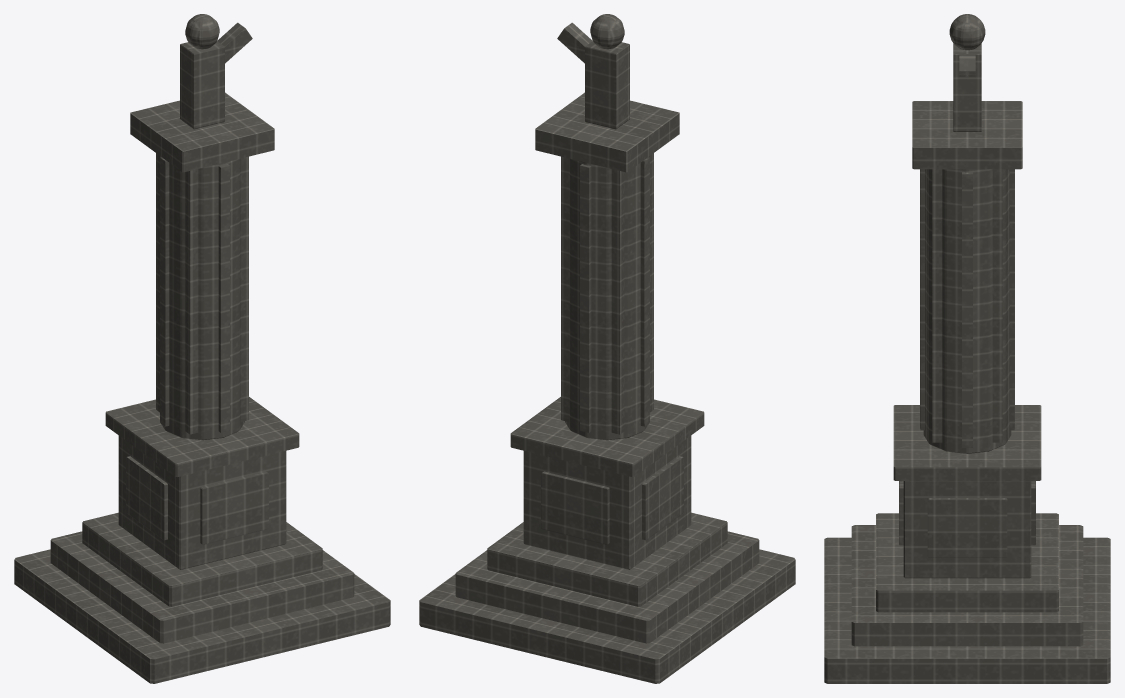
The model's file is monument.gltf.
The picture shows the model from 3 angles, left to right: view 1: azimuth 30°, elevation 25°; view 2: azimuth 150°, elevation 25°; view 3: azimuth 270°, elevation 25°; orthographic projection. The views are drawn at different scales.
Visible parts, largest first — view 1: Monument; view 2: Monument; view 3: Monument.
Part boxes in pixels (box(x1,y1,x2,y2)): Monument: box(14, 14, 390, 683); Monument: box(419, 14, 795, 683); Monument: box(824, 14, 1110, 683).
Size of the model in its own units: 2.6 by 6.08 by 2.6.
2 materials, 2 textured.
